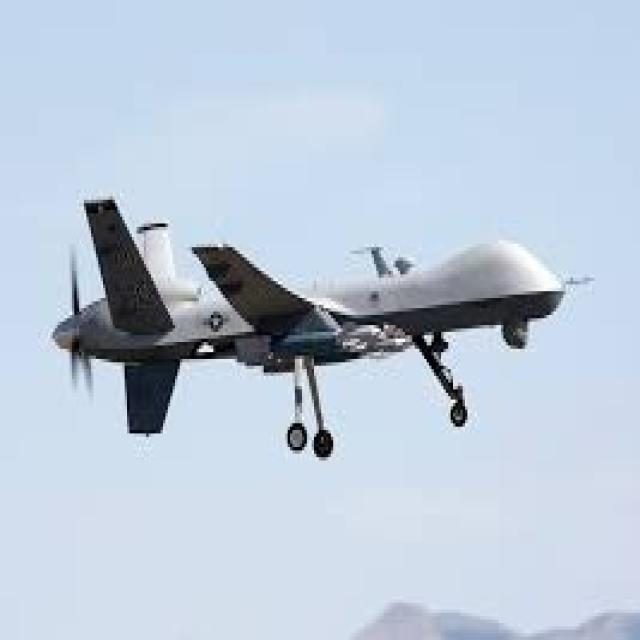MQ9: (25, 131, 593, 516)
